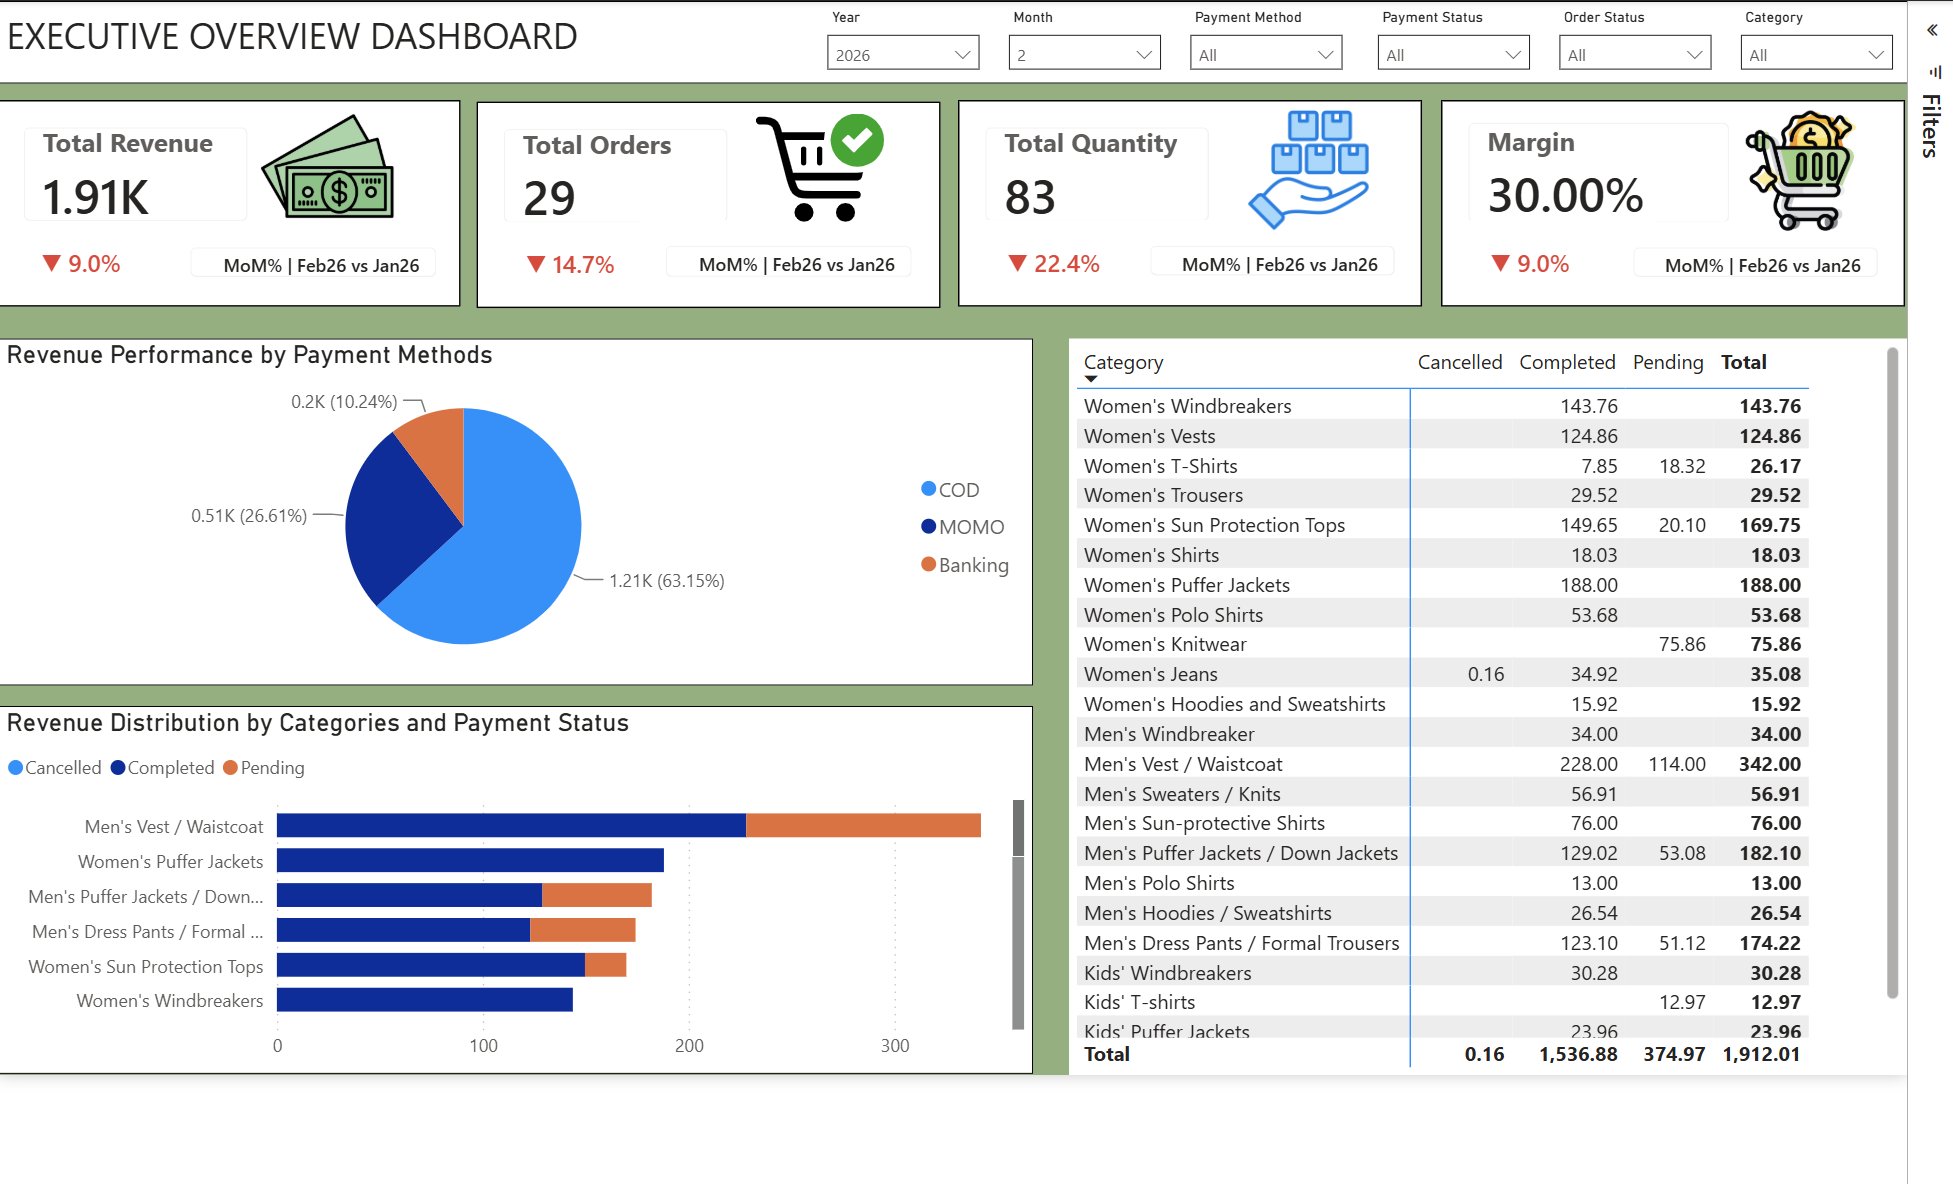

This screenshot's page, from the dashboard's own definition file:
{"tool":"powerbi","page":{"name":"Page 1","canvas":[1280,720],"ordinal":0},"visuals":[{"type":"textbox","box":[0,0,1280.3,55.3],"z":0},{"type":"group","id":"g1","title":"Group 1","box":[-1.4,60.6,311.9,144.3],"z":1000},{"type":"group","id":"g2","title":"Group 1","box":[320.4,67.7,311.2,138.6],"z":2000},{"type":"group","id":"g3","title":"Group 1","box":[643.5,66.4,311.2,138.6],"z":3000},{"type":"group","id":"g4","title":"Group 1","box":[967.9,64.3,312.4,140.6],"z":4000},{"type":"shape","box":[-1.4,66.4,311.2,138.6],"z":4000,"group":"g1"},{"type":"shape","box":[643.5,66.4,311.2,138.6],"z":4000,"group":"g3"},{"type":"shape","box":[967.9,66.4,311.2,138.6],"z":4000,"group":"g4"},{"type":"shape","box":[320.4,67.7,311.2,138.6],"z":4000,"group":"g2"},{"type":"cardVisual","fields":{"Data":["Measures_House.Margin %"]},"box":[968.7,64.3,209.2,101.2],"z":5000,"group":"g4"},{"type":"cardVisual","fields":{"Data":["Measures_House.Total Revenue"]},"box":[-0.2,67.5,184.1,98],"z":5000,"group":"g1"},{"type":"cardVisual","fields":{"Data":["Measures_House.Total Quantity"]},"box":[644.7,67.6,184.1,98],"z":5000,"group":"g3"},{"type":"cardVisual","fields":{"Data":["Measures_House.Total Orders"]},"box":[321.6,68.9,184.1,98],"z":5000,"group":"g2"},{"type":"pieChart","title":"Revenue Performance by Payment Methods","fields":{"Y":["Sum(dw_fact_order_items.Revenue)"],"Category":["dw_fact_orders.Payment Method"]},"box":[0,225.8,694.1,232.5],"z":5000},{"type":"barChart","title":"Revenue Distribution by Categories and Payment Status","fields":{"Category":["dw_dim_products.Category"],"Y":["Sum(dw_fact_order_items.Revenue)"],"Series":["dw_fact_orders.Order Status"]},"box":[0,472.8,694.1,247],"z":6000},{"type":"slicer","fields":{"Values":["dw_dim_products.Category"]},"box":[1158.6,0,121.7,55.3],"z":7000},{"type":"slicer","fields":{"Values":["dw_fact_payments.Payment Status"]},"box":[915.3,0,121.7,55.3],"z":8000},{"type":"slicer","fields":{"Values":["dw_fact_orders.Order Status"]},"box":[1036.9,0,121.7,55.3],"z":9000},{"type":"cardVisual","fields":{"Data":["Measures_House.Quantity MoM Display"]},"box":[647.3,147,140.4,54.3],"z":9000,"group":"g3"},{"type":"cardVisual","fields":{"Data":["Measures_House.Margin MoM Display"]},"box":[971.7,147,140.4,54.3],"z":9000,"group":"g4"},{"type":"cardVisual","fields":{"Data":["Measures_House.Revenue MoM Display"]},"box":[0.1,147.8,144.6,53.4],"z":9000,"group":"g1"},{"type":"cardVisual","fields":{"Data":["Measures_House.Orders MoM Display"]},"box":[324.2,148.3,140.4,54.3],"z":9000,"group":"g2"},{"type":"slicer","fields":{"Values":["dw_fact_orders.Payment Method"]},"box":[789.5,0,121.7,55.3],"z":10000},{"type":"cardVisual","fields":{"Data":["Measures_House.MoM Label"]},"box":[430.3,147.3,199.1,55.3],"z":10000,"group":"g2"},{"type":"cardVisual","fields":{"Data":["Measures_House.MoM Label"]},"box":[755.3,147.3,198.1,54.3],"z":10000,"group":"g3"},{"type":"cardVisual","fields":{"Data":["Measures_House.MoM Label"]},"box":[1079.3,147.3,198.1,54.3],"z":10000,"group":"g4"},{"type":"cardVisual","fields":{"Data":["Measures_House.MoM Label"]},"box":[111.3,147.8,199.1,54.5],"z":10000,"group":"g1"},{"type":"slicer","fields":{"Values":["dw_dim_date.Month"]},"box":[667.8,0,121.7,55.3],"z":11000},{"type":"image","box":[131.8,60.6,178,100.5],"z":11000,"group":"g1"},{"type":"image","box":[811.9,72.6,134.2,81.9],"z":11000,"group":"g3"},{"type":"image","box":[1139.3,72.9,141,80.7],"z":11000,"group":"g4"},{"type":"image","box":[482.1,75.8,136.5,72.8],"z":11000,"group":"g2"},{"type":"slicer","fields":{"Values":["dw_dim_date.Date.Variation.Date Hierarchy.Year"]},"box":[546.1,0,121.7,55.3],"z":12000},{"type":"pivotTable","fields":{"Rows":["dw_dim_products.Category"],"Columns":["dw_fact_orders.Order Status"],"Values":["Sum(dw_fact_order_items.Revenue)"]},"box":[718.6,225.8,561.8,493.9],"z":13000}]}

Visuals, with their boxes in screenshot pixels (x1, y1, x2, y2):
textbox: [left=0, top=0, right=1901, bottom=78]
"Group 1" group: [left=0, top=86, right=442, bottom=303]
"Group 1" group: [left=457, top=97, right=925, bottom=305]
"Group 1" group: [left=943, top=95, right=1411, bottom=303]
"Group 1" group: [left=1431, top=92, right=1901, bottom=303]
shape: [left=0, top=95, right=441, bottom=303]
shape: [left=943, top=95, right=1411, bottom=303]
shape: [left=1431, top=95, right=1899, bottom=303]
shape: [left=457, top=97, right=925, bottom=305]
cardVisual - Measures_House.Margin %: [left=1432, top=92, right=1747, bottom=244]
cardVisual - Measures_House.Total Revenue: [left=0, top=96, right=251, bottom=244]
cardVisual - Measures_House.Total Quantity: [left=945, top=97, right=1222, bottom=244]
cardVisual - Measures_House.Total Orders: [left=458, top=99, right=735, bottom=246]
"Revenue Performance by Payment Methods" pieChart: [left=0, top=335, right=1019, bottom=685]
"Revenue Distribution by Categories and Payment Status" barChart: [left=0, top=706, right=1019, bottom=1078]
slicer - dw_dim_products.Category: [left=1718, top=0, right=1901, bottom=78]
slicer - dw_fact_payments.Payment Status: [left=1352, top=0, right=1535, bottom=78]
slicer - dw_fact_orders.Order Status: [left=1535, top=0, right=1718, bottom=78]
cardVisual - Measures_House.Quantity MoM Display: [left=949, top=216, right=1160, bottom=298]
cardVisual - Measures_House.Margin MoM Display: [left=1437, top=216, right=1648, bottom=298]
cardVisual - Measures_House.Revenue MoM Display: [left=0, top=217, right=192, bottom=298]
cardVisual - Measures_House.Orders MoM Display: [left=462, top=218, right=674, bottom=300]
slicer - dw_fact_orders.Payment Method: [left=1163, top=0, right=1346, bottom=78]
cardVisual - Measures_House.MoM Label: [left=622, top=217, right=922, bottom=300]
cardVisual - Measures_House.MoM Label: [left=1111, top=217, right=1409, bottom=298]
cardVisual - Measures_House.MoM Label: [left=1599, top=217, right=1897, bottom=298]
cardVisual - Measures_House.MoM Label: [left=142, top=217, right=442, bottom=299]
slicer - dw_dim_date.Month: [left=979, top=0, right=1163, bottom=78]
image: [left=173, top=86, right=441, bottom=237]
image: [left=1196, top=104, right=1398, bottom=227]
image: [left=1689, top=105, right=1901, bottom=226]
image: [left=700, top=109, right=905, bottom=219]
slicer - dw_dim_date.Date.Variation.Date Hierarchy.Year: [left=796, top=0, right=979, bottom=78]
pivotTable - dw_dim_products.Category x dw_fact_orders.Order Status: [left=1056, top=335, right=1901, bottom=1078]
